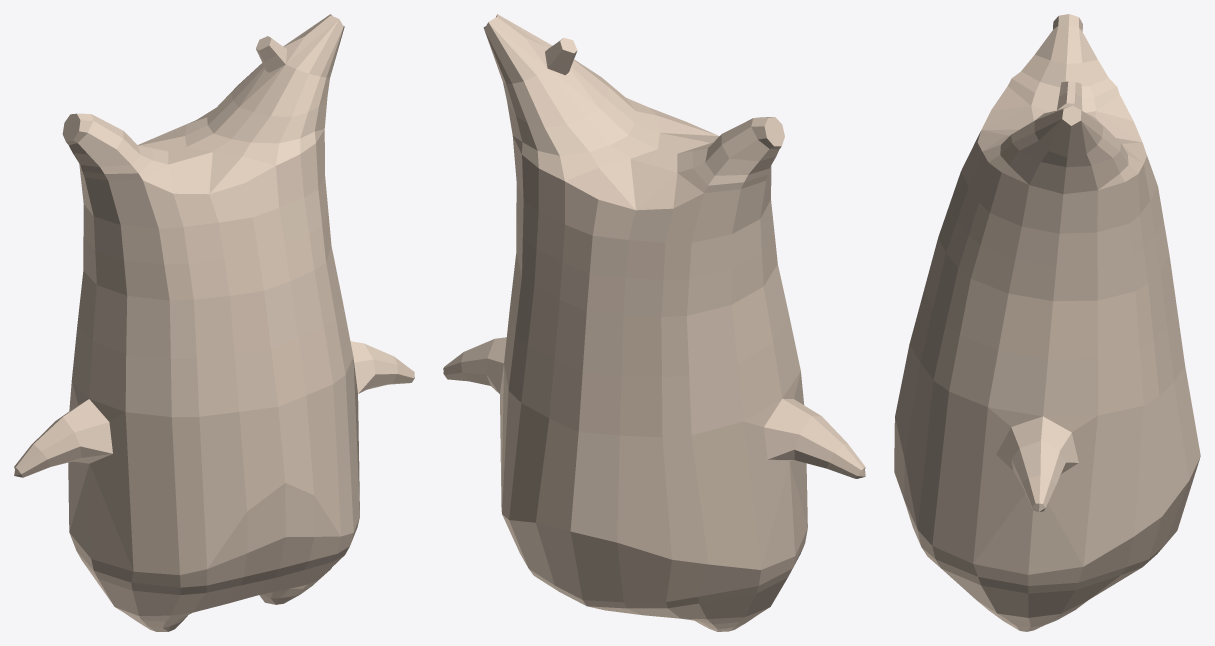
The model's file is frame_0018.obj.
3 renders of one model, left to right at view 1: azimuth 30°, elevation 25°; view 2: azimuth 150°, elevation 25°; view 3: azimuth 270°, elevation 25°, orthographic. The views are drawn at different scales.
Visible parts, largest first — view 1: korok; view 2: korok; view 3: korok.
Part boxes in pixels (bbox=[...]): korok: bbox=[14, 14, 414, 631]; korok: bbox=[443, 14, 865, 631]; korok: bbox=[894, 14, 1200, 631].
Size of the model in its own units: 1.63 by 2.15 by 1.06.
